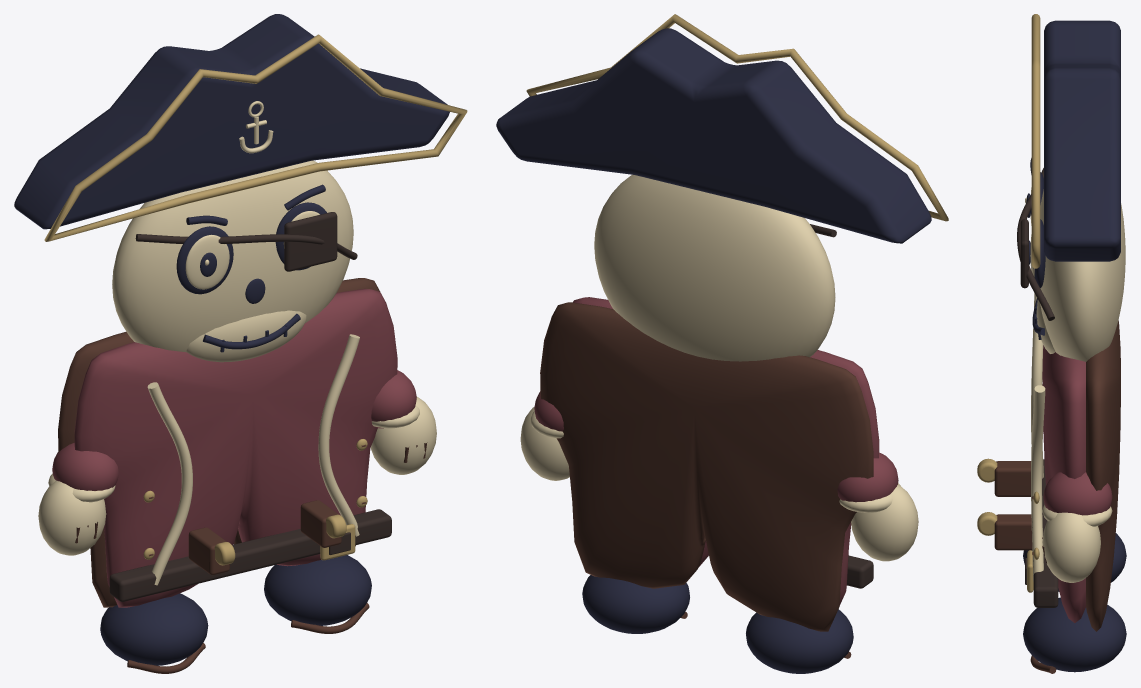
File: pirate.glb
3 views of the same model, side by side, from view 1: azimuth 30°, elevation 25°; view 2: azimuth 150°, elevation 25°; view 3: azimuth 270°, elevation 25° (orthographic). The views are drawn at different scales.
Parts seen in each view (by area): view 1: pirate_Body_crew_captain_wood, pirate_Hat_charcoal_enamel, pirate_Body_crew_ivory_wood, pirate_Body_charcoal_enamel, pirate_Body_leather_inlay, pirate_Hat_crew_brass, pirate_Body_carved_mahogany, pirate_Hand_L_crew_ivory_wood, pirate_Hand_R_crew_ivory_wood, pirate_Body_crew_brass, pirate_Eye_L_crew_ivory_wood, pirate_Eye_L_charcoal_enamel (+2 smaller); view 2: pirate_Body_carved_mahogany, pirate_Hat_charcoal_enamel, pirate_Body_crew_ivory_wood, pirate_Body_charcoal_enamel, pirate_Body_crew_captain_wood, pirate_Hat_crew_brass, pirate_Hand_L_crew_ivory_wood, pirate_Hand_R_crew_ivory_wood, pirate_Body_leather_inlay; view 3: pirate_Hat_charcoal_enamel, pirate_Body_crew_ivory_wood, pirate_Body_carved_mahogany, pirate_Body_crew_captain_wood, pirate_Body_charcoal_enamel, pirate_Hand_R_crew_ivory_wood, pirate_Hat_crew_brass, pirate_Body_leather_inlay, pirate_Body_crew_brass, pirate_Eye_R_charcoal_enamel.
Boxes of the visible parts, x1=… form: pirate_Body_crew_captain_wood: x1=52, y1=288, x2=416, y2=607; pirate_Hat_charcoal_enamel: x1=14, y1=14, x2=449, y2=229; pirate_Body_crew_ivory_wood: x1=112, y1=160, x2=359, y2=585; pirate_Body_charcoal_enamel: x1=100, y1=278, x2=371, y2=665; pirate_Body_leather_inlay: x1=109, y1=212, x2=391, y2=601; pirate_Hat_crew_brass: x1=44, y1=34, x2=467, y2=241; pirate_Body_carved_mahogany: x1=58, y1=278, x2=380, y2=673; pirate_Hand_L_crew_ivory_wood: x1=38, y1=473, x2=115, y2=555; pirate_Hand_R_crew_ivory_wood: x1=370, y1=396, x2=436, y2=474; pirate_Body_crew_brass: x1=143, y1=439, x2=367, y2=565; pirate_Eye_L_crew_ivory_wood: x1=185, y1=234, x2=229, y2=289; pirate_Eye_L_charcoal_enamel: x1=176, y1=226, x2=233, y2=294; pirate_Body_carved_mahogany: x1=540, y1=302, x2=873, y2=658; pirate_Hat_charcoal_enamel: x1=496, y1=28, x2=931, y2=243; pirate_Body_crew_ivory_wood: x1=594, y1=174, x2=835, y2=361; pirate_Body_charcoal_enamel: x1=582, y1=575, x2=853, y2=673; pirate_Body_crew_captain_wood: x1=534, y1=297, x2=898, y2=605; pirate_Hat_crew_brass: x1=526, y1=14, x2=948, y2=221; pirate_Hand_L_crew_ivory_wood: x1=839, y1=483, x2=918, y2=561; pirate_Hand_R_crew_ivory_wood: x1=520, y1=406, x2=569, y2=480; pirate_Body_leather_inlay: x1=810, y1=224, x2=873, y2=588; pirate_Hat_charcoal_enamel: x1=1044, y1=20, x2=1120, y2=261; pirate_Body_crew_ivory_wood: x1=1031, y1=189, x2=1125, y2=581; pirate_Body_carved_mahogany: x1=994, y1=320, x2=1120, y2=673; pirate_Body_crew_captain_wood: x1=1042, y1=345, x2=1112, y2=622; pirate_Body_charcoal_enamel: x1=1023, y1=533, x2=1126, y2=672; pirate_Hand_R_crew_ivory_wood: x1=1042, y1=504, x2=1112, y2=582; pirate_Hat_crew_brass: x1=1031, y1=14, x2=1040, y2=268; pirate_Body_leather_inlay: x1=1017, y1=168, x2=1058, y2=607; pirate_Body_crew_brass: x1=977, y1=458, x2=1039, y2=592; pirate_Eye_R_charcoal_enamel: x1=1034, y1=219, x2=1045, y2=288.
Size of the model in its own units: 1.54 by 2.11 by 0.484.
